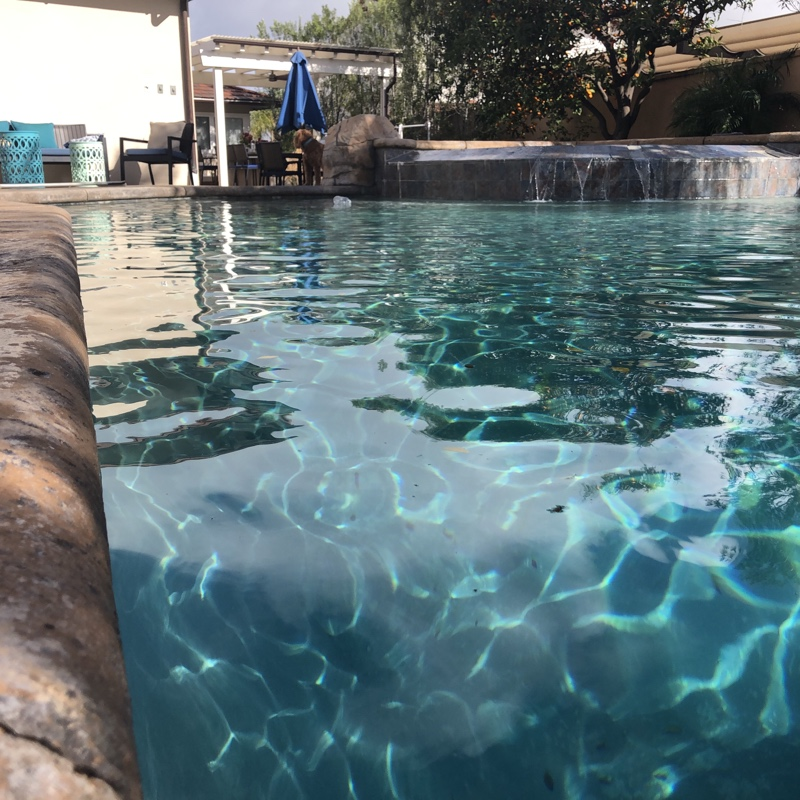Plastic Bottle: (329, 192, 350, 209)
